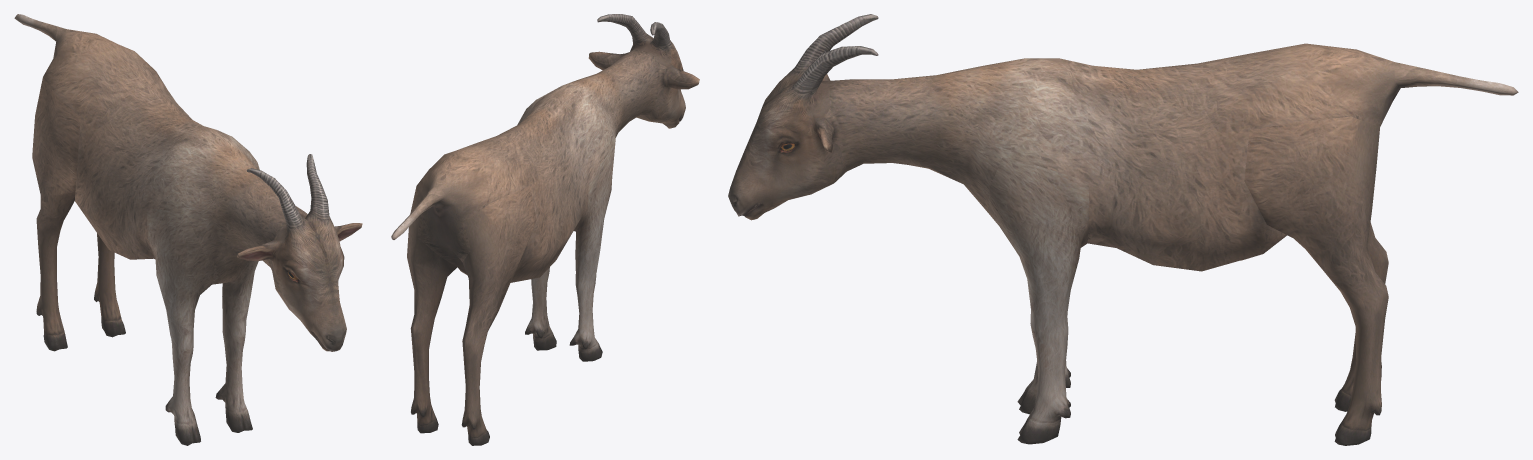
The picture shows the model from 3 angles, left to right: view 1: azimuth 30°, elevation 25°; view 2: azimuth 150°, elevation 25°; view 3: azimuth 270°, elevation 25°; orthographic projection. The views are drawn at different scales.
Parts seen in each view (by area): view 1: goat; view 2: goat; view 3: goat.
Boxes of the visible parts, x1,y1,x2,y2 form: goat: [14, 14, 362, 445]; goat: [391, 14, 699, 445]; goat: [728, 14, 1518, 445].
Size of the model in its own units: 0.6537 by 1.62 by 2.96.
1 material, 1 textured.
